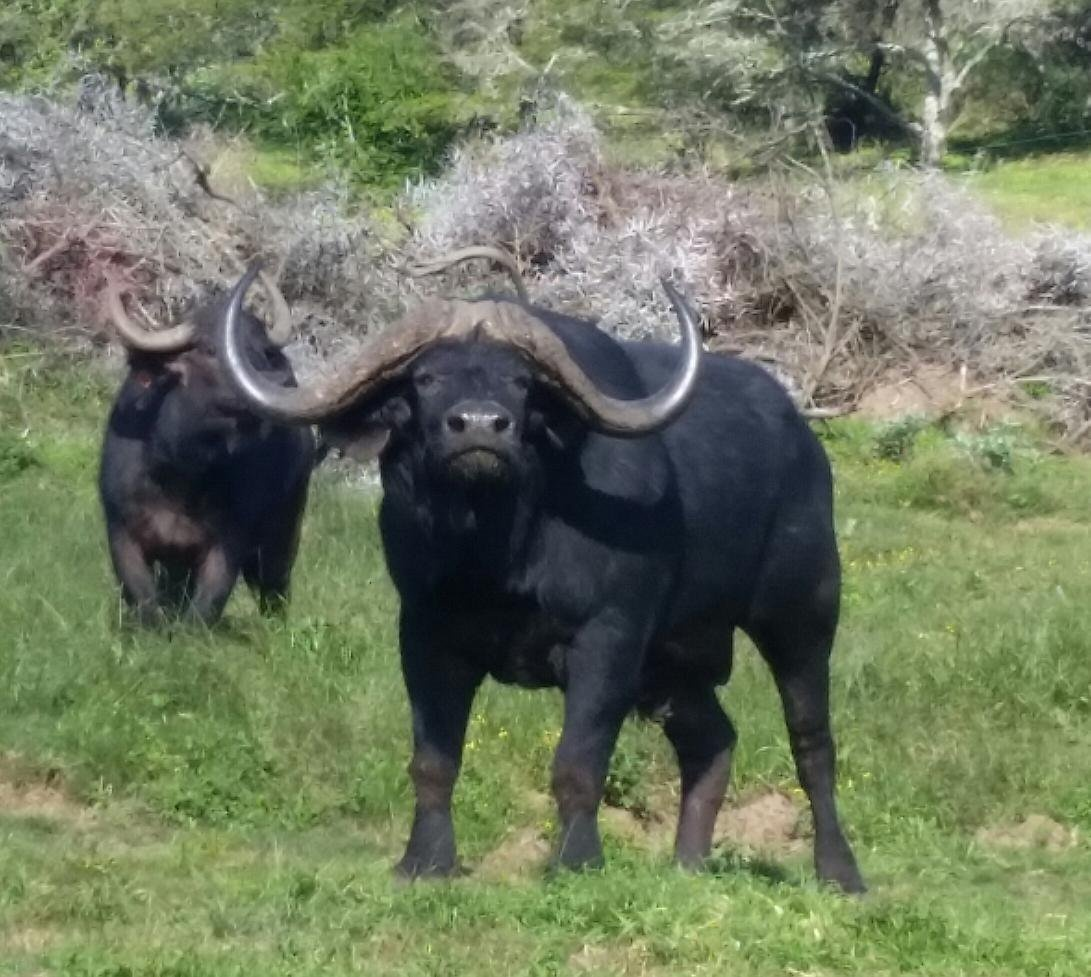buffalo: (218, 252, 858, 892), (96, 256, 317, 635)
